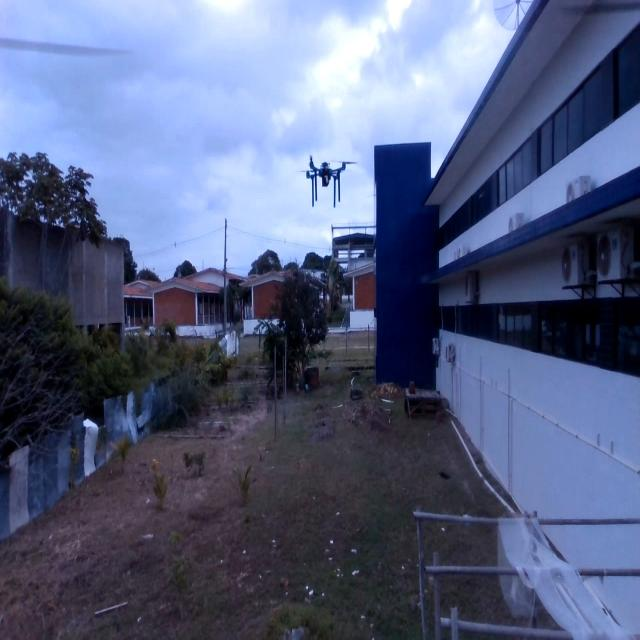-uav-: (294, 138, 368, 226)
